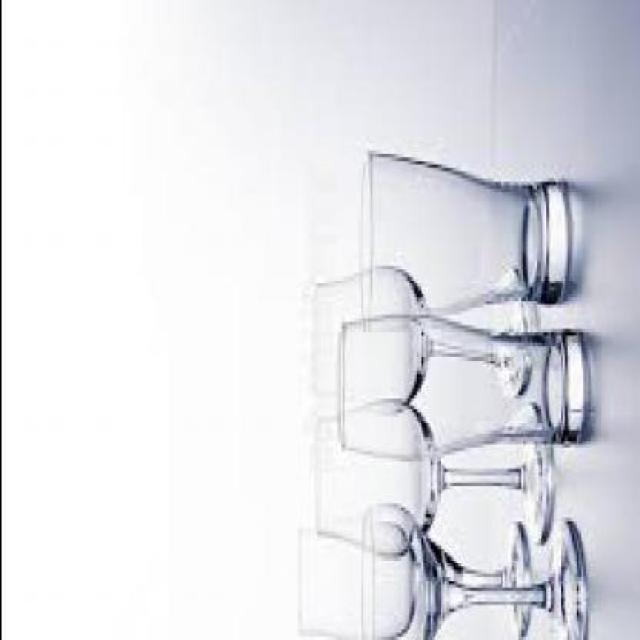glass: (310, 406, 548, 560), (357, 154, 563, 329), (336, 318, 584, 462), (311, 274, 535, 417), (359, 514, 583, 638), (294, 524, 528, 638)
